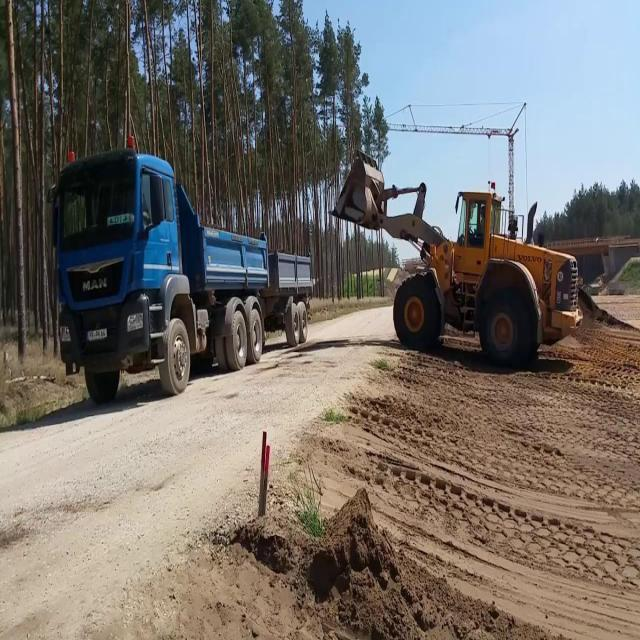Dump Truck: (46, 134, 313, 396)
Loader: (326, 143, 584, 365)
